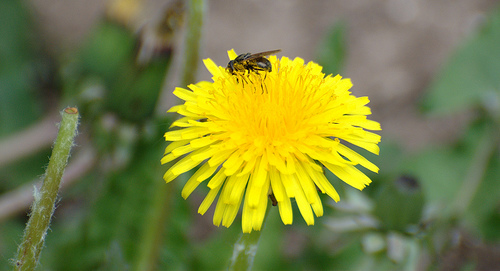dandelion yellow: (159, 44, 387, 235)
